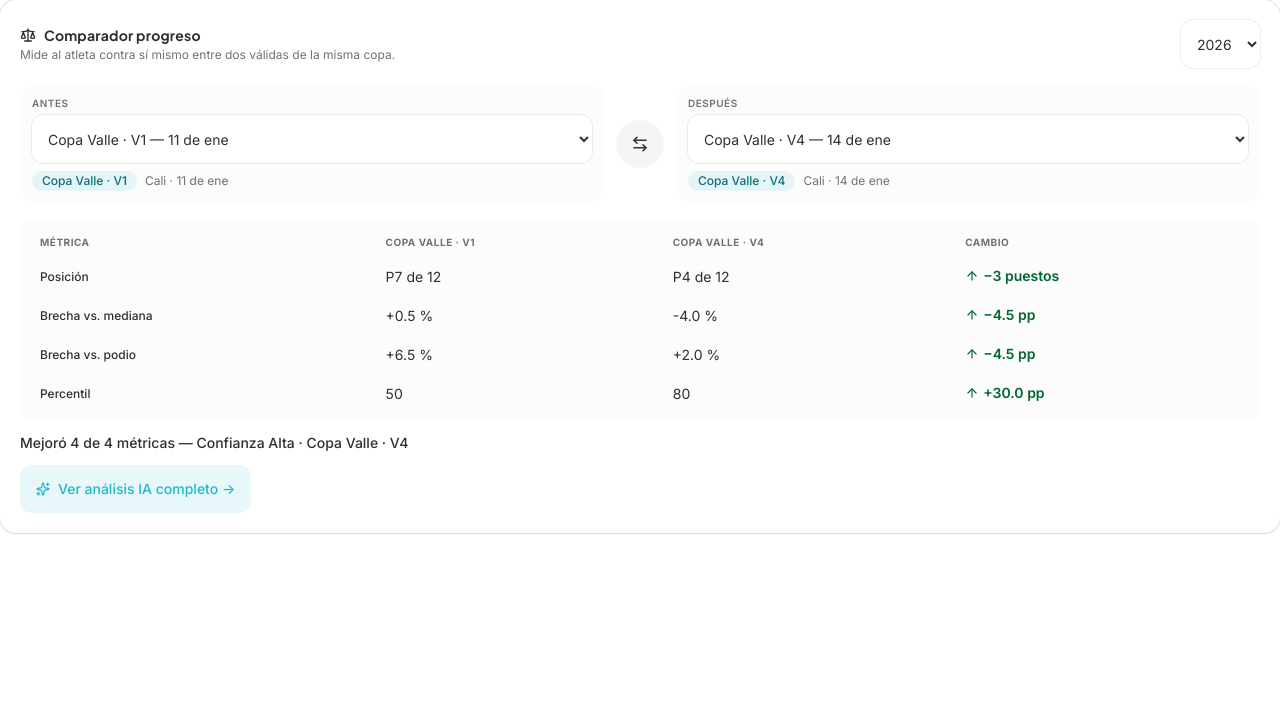
Test: ComparatorPanel v2 › botón swap intercambia los selectores A y B
Click the button with test id "comparator-swap": (640, 144) [616,120,664,168]
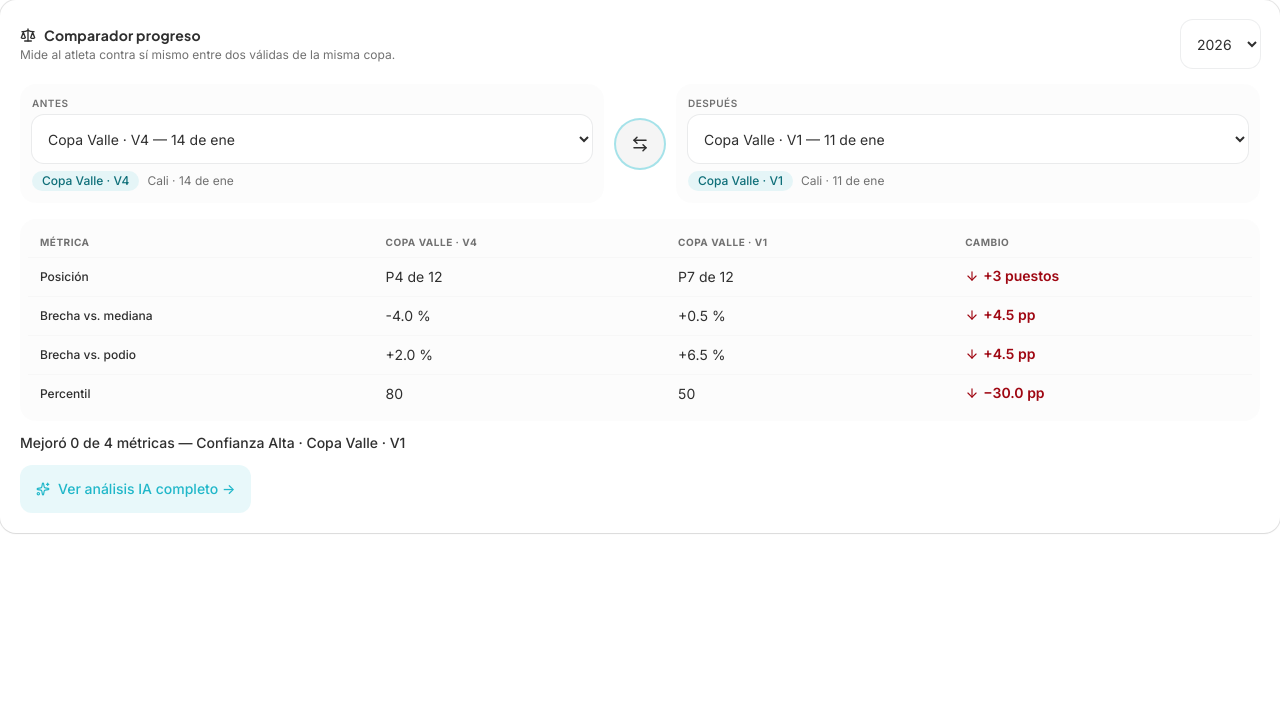
Expected: the dropdown named "Válida A — seleccionar válida" shows "Copa Valle · V4 — 14 de ene", [32,115,592,163]
Expected: the dropdown named "Válida B — seleccionar válida" shows "Copa Valle · V1 — 11 de ene", [688,115,1248,163]
